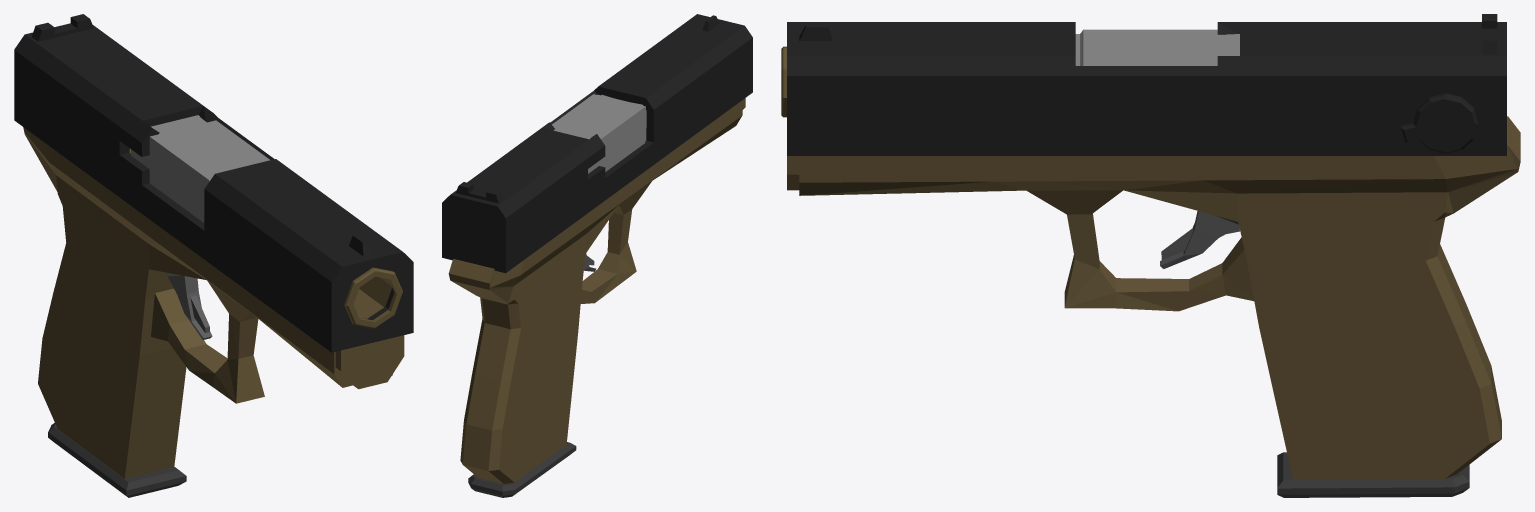
3 renders of one model, left to right at view 1: azimuth 30°, elevation 25°; view 2: azimuth 150°, elevation 25°; view 3: azimuth 270°, elevation 25°, orthographic. The views are drawn at different scales.
Visible parts, largest first — view 1: Cube, Cube.001, Magazine; view 2: Cube, Cube.001, Magazine; view 3: Cube, Cube.001, Magazine.
Boxes of the visible parts, left/top/right/bottom form: Cube: left=23, top=115, right=404, bottom=478; Cube.001: left=14, top=14, right=413, bottom=352; Magazine: left=48, top=423, right=186, bottom=497; Cube: left=448, top=94, right=745, bottom=483; Cube.001: left=442, top=14, right=752, bottom=273; Magazine: left=468, top=442, right=576, bottom=497; Cube: left=781, top=29, right=1520, bottom=479; Cube.001: left=787, top=14, right=1506, bottom=155; Magazine: left=1277, top=452, right=1469, bottom=497.
Bounding box in the file's own units: 5.8 × 25.54 × 37.36.
